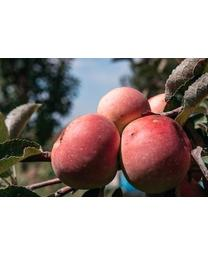apple: (121, 115, 190, 195), (52, 113, 122, 189), (97, 88, 152, 131)
